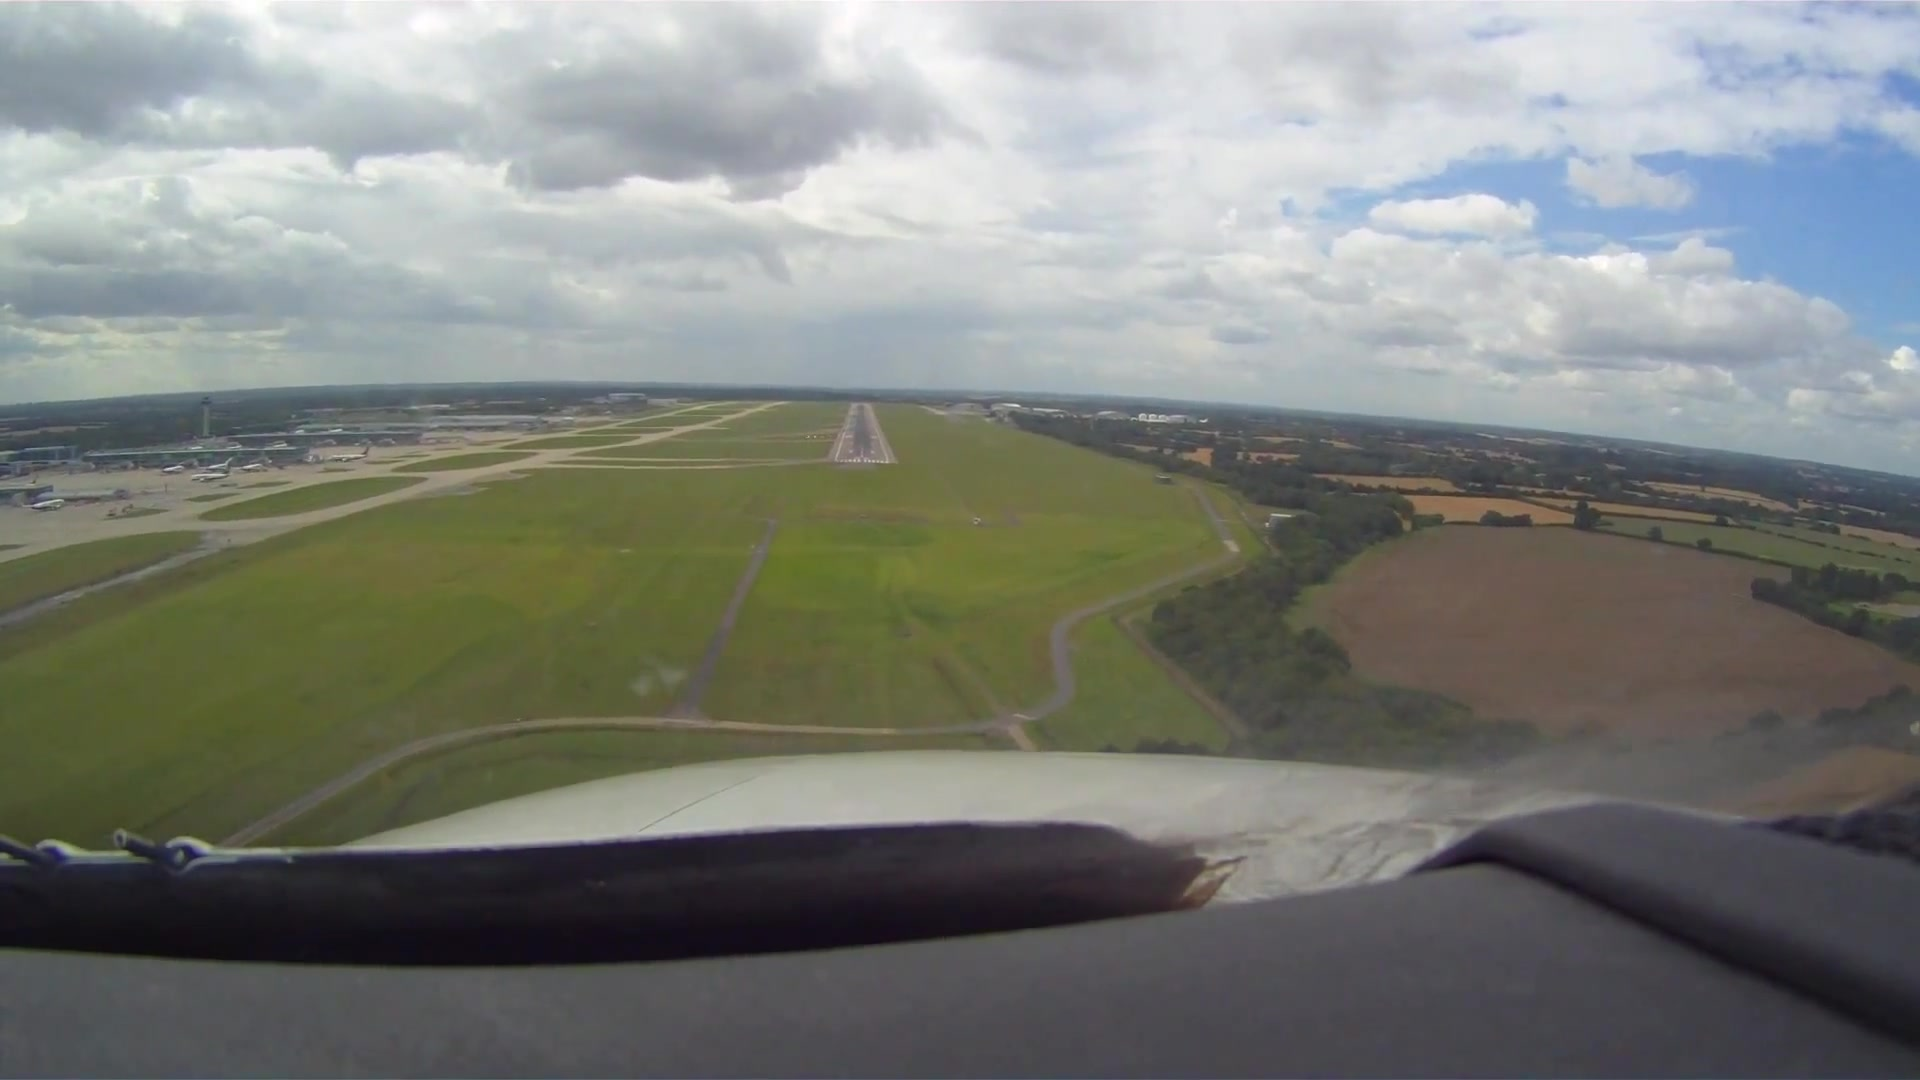entrance: (835, 459, 891, 465)
runway: (829, 402, 899, 467)
